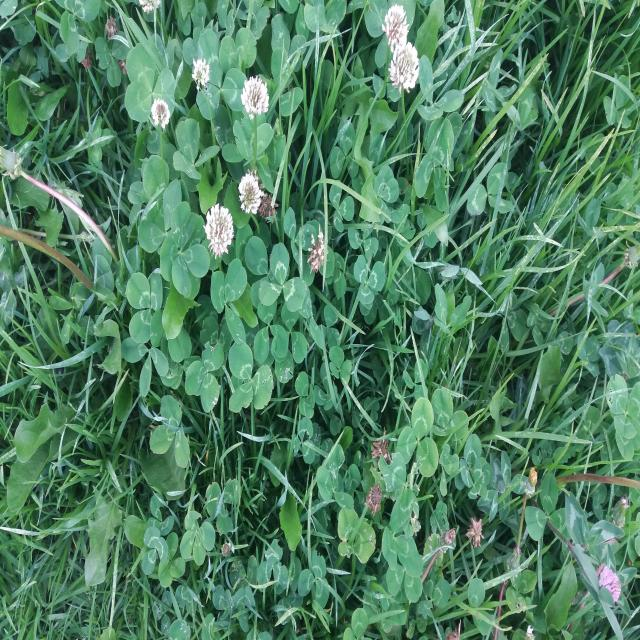Four Leaf Clover: (159, 201, 210, 299)
